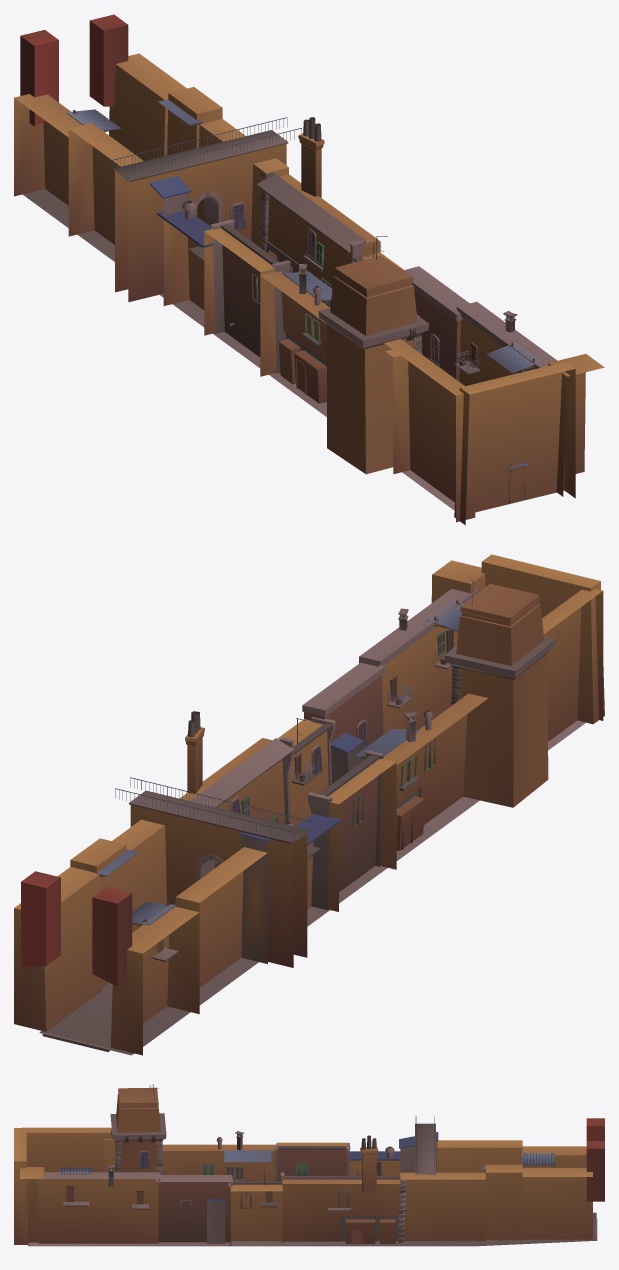
Rendered from Residential.fbx.
3 views of the same model, one above another, from view 1: azimuth 30°, elevation 25°; view 2: azimuth 150°, elevation 25°; view 3: azimuth 270°, elevation 25° (orthographic). The views are drawn at different scales.
Visible parts, largest first — view 1: Residential; view 2: Residential; view 3: Residential.
Boxes of the visible parts, <box> form: Residential: <box>14,14,604,525</box>; Residential: <box>14,554,604,1055</box>; Residential: <box>14,1084,604,1246</box>.
Size of the model in its own units: 14.55 by 16.15 by 64.71.
